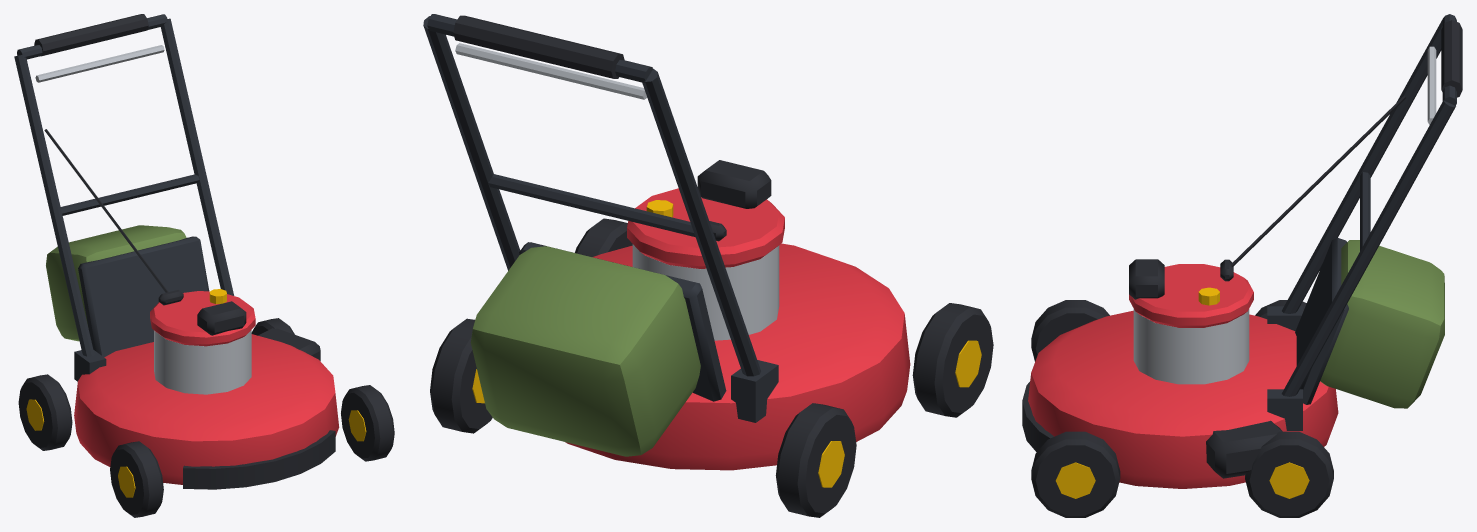
File: lawn_mower.glb
The picture shows the model from 3 angles, left to right: view 1: azimuth 30°, elevation 25°; view 2: azimuth 150°, elevation 25°; view 3: azimuth 270°, elevation 25°; orthographic projection. The views are drawn at different scales.
Visible parts, largest first — view 1: body; view 2: body; view 3: body.
Boxes of the visible parts, x1,y1,x2,y2 form: body: (14,14,394,517); body: (423,14,993,517); body: (1022,14,1462,517).
Size of the model in its own units: 78.17 by 98.65 by 98.9.
